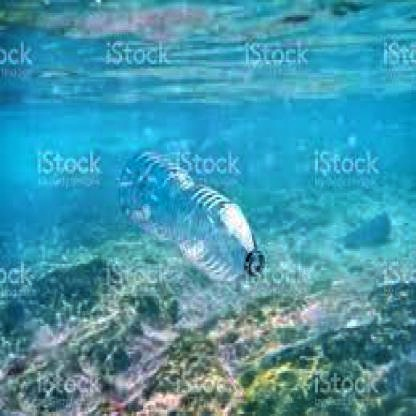pbottle: (111, 150, 270, 281)
